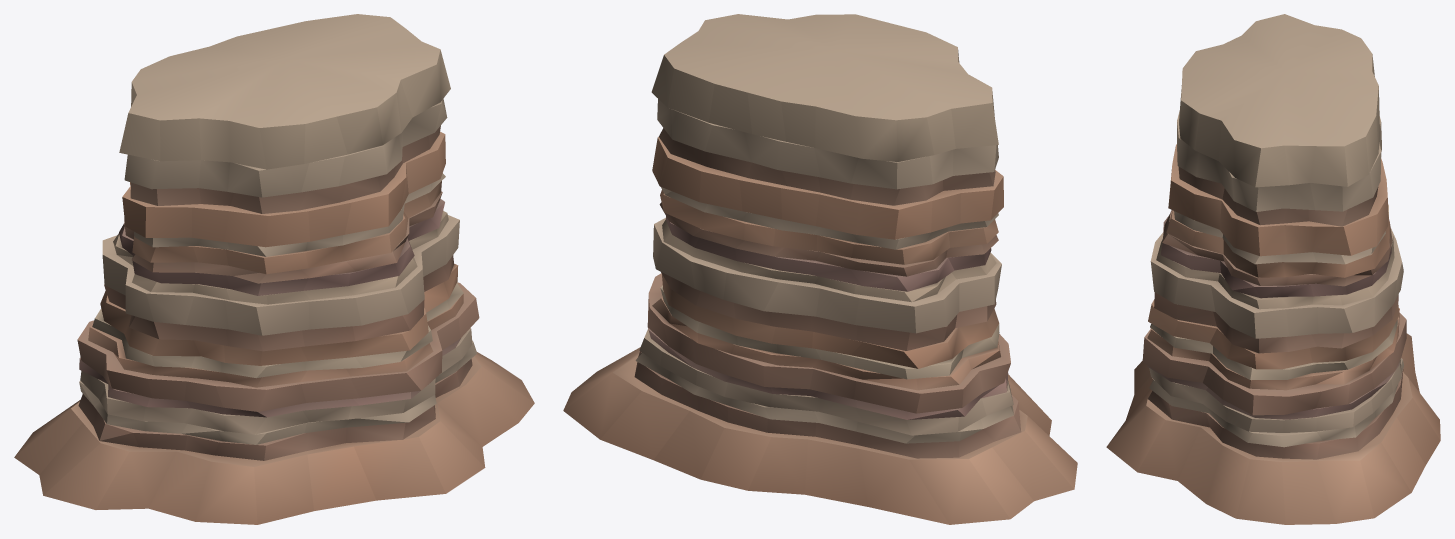
File: mesa_b.glb
3 views of the same model, side by side, from view 1: azimuth 30°, elevation 25°; view 2: azimuth 150°, elevation 25°; view 3: azimuth 270°, elevation 25° (orthographic). The views are drawn at different scales.
Visible parts, largest first — view 1: mesa_b; view 2: mesa_b; view 3: mesa_b.
Boxes of the visible parts, x1,y1,x2,y2 form: mesa_b: [14, 14, 534, 524]; mesa_b: [563, 14, 1077, 524]; mesa_b: [1106, 14, 1440, 524].
Bounding box in the file's own units: 27.48 × 20.8 × 18.14.
